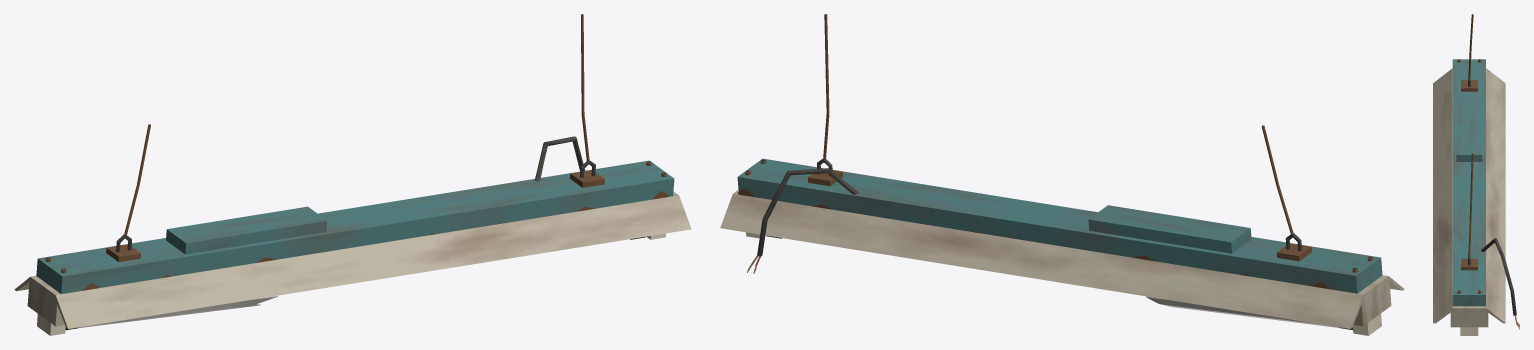
The model's file is U20_broken_hanging_tube_light.glb.
The picture shows the model from 3 angles, left to right: view 1: azimuth 30°, elevation 25°; view 2: azimuth 150°, elevation 25°; view 3: azimuth 270°, elevation 25°; orthographic projection. The views are drawn at different scales.
Parts seen in each view (by area): view 1: Broken hanging tube light; view 2: Broken hanging tube light; view 3: Broken hanging tube light.
Part boxes in pixels (box(x1,y1,x2,y2)): Broken hanging tube light: box(14, 14, 691, 335); Broken hanging tube light: box(720, 14, 1404, 335); Broken hanging tube light: box(1433, 14, 1519, 335).
Size of the model in its own units: 1.2 by 0.4403 by 0.2143.
Materials: 12 (11 with a texture image).
